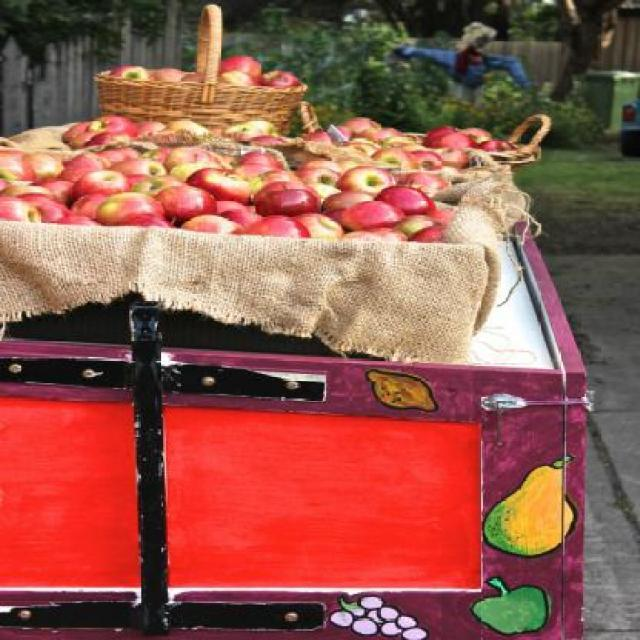Apple pie: (0, 114, 523, 240), (100, 56, 298, 84), (467, 576, 550, 636), (94, 192, 164, 222)
